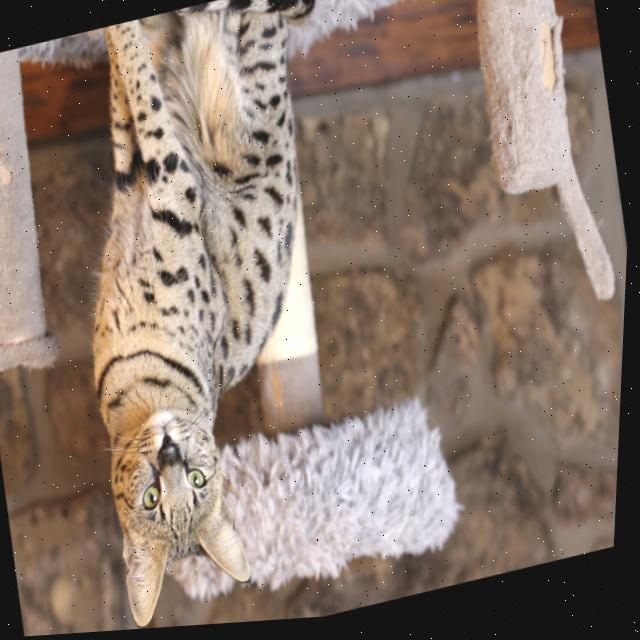Savannah: (21, 0, 424, 638)
